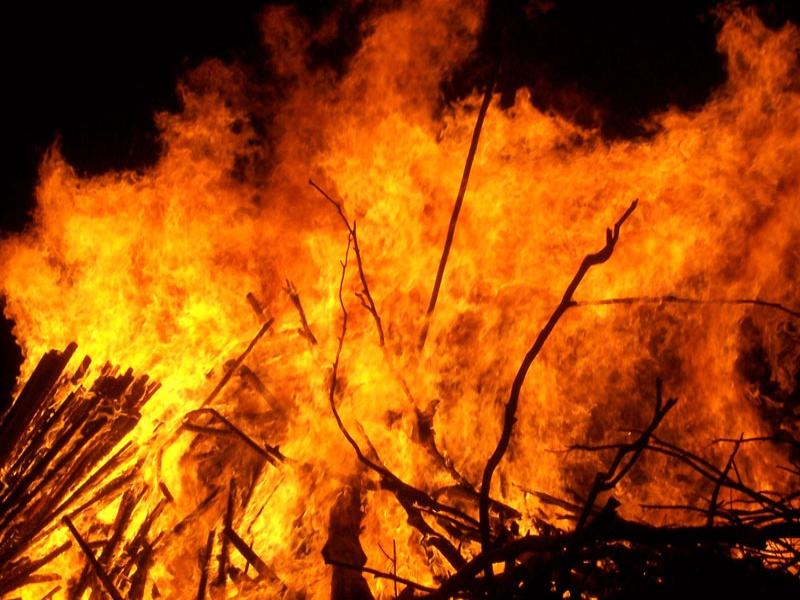fire: (9, 139, 800, 573)
